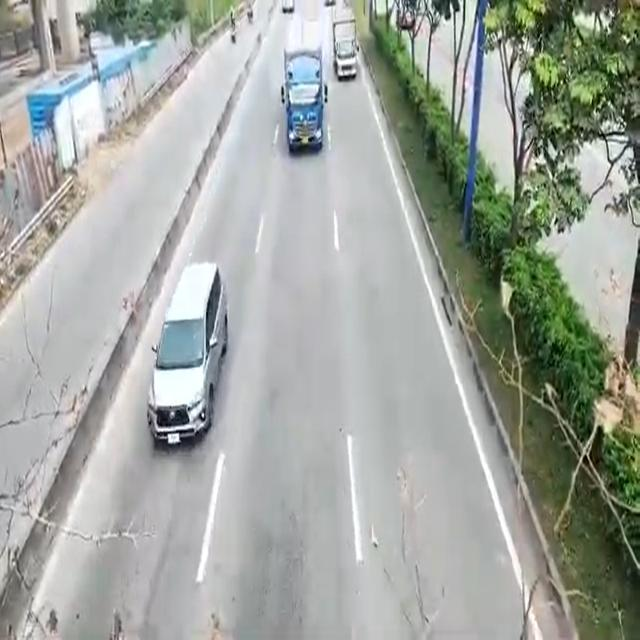car: (160, 264, 220, 442)
truck: (282, 16, 324, 157), (330, 8, 359, 78)
